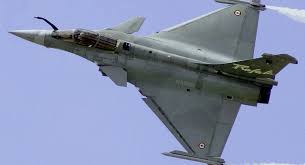fighter: (6, 1, 299, 164)
